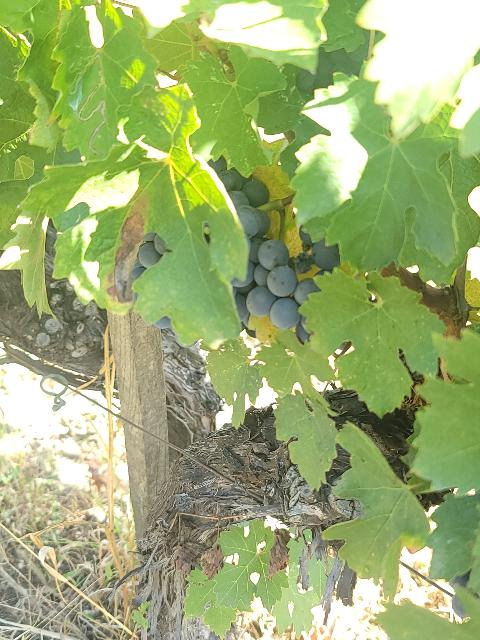grapes: (216, 159, 271, 324), (245, 240, 320, 341)
